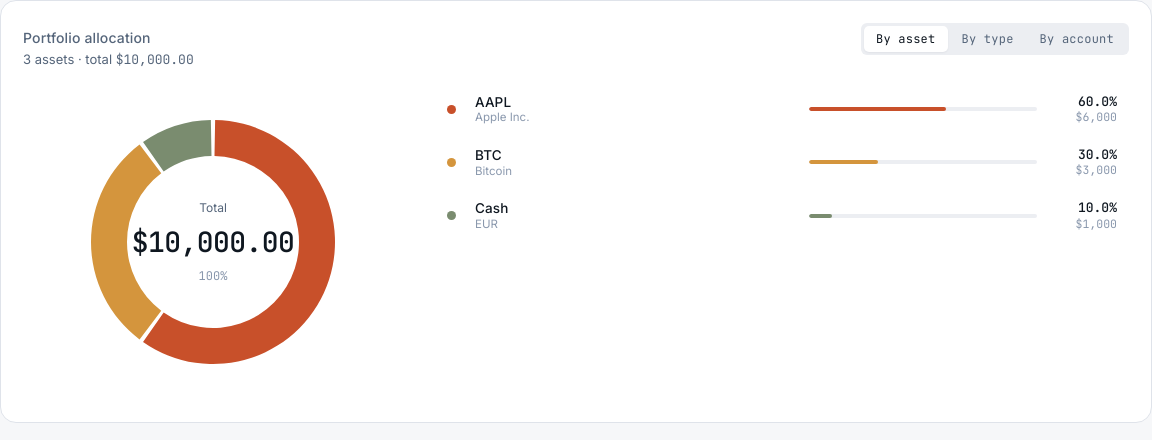
Test: AllocationsPage — view toggle › clicking By type re-fetches with group=type and updates the count line
Step 1. Click the button "By type" → (988, 39), box [950,26,1026,52]
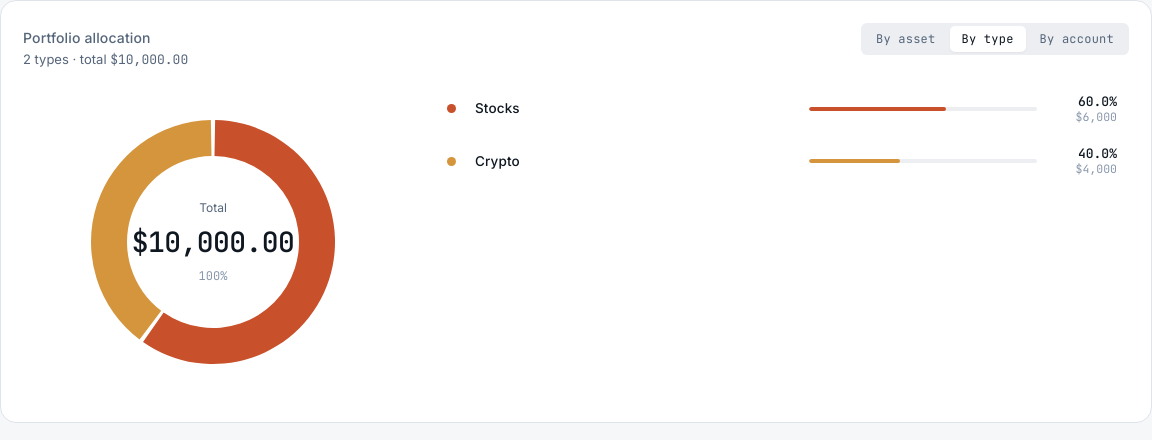
Expected: the text "2 types · total $10,000.00" is shown, [23,50,188,70]
